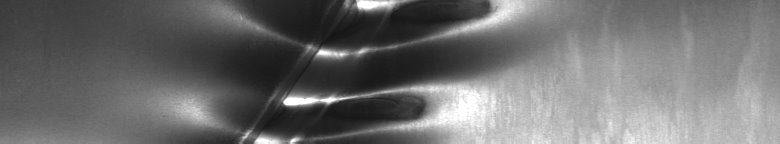ke: (236, 4, 492, 136)
